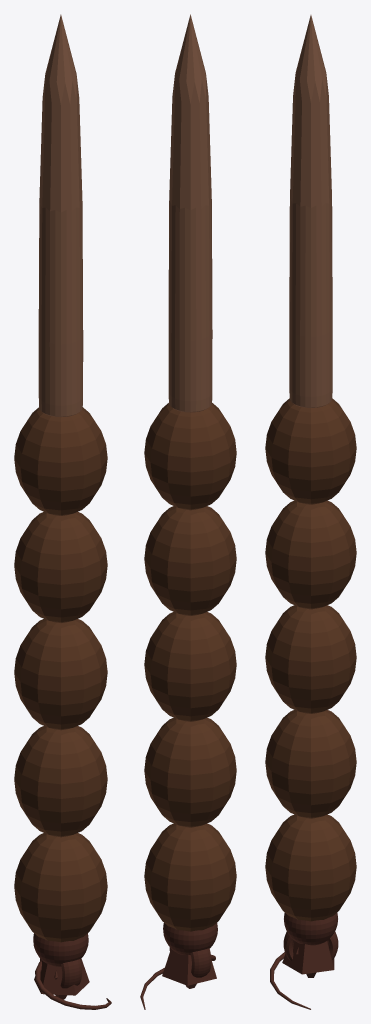
Rendered from Wand 207.glb.
3 renders of one model, left to right at view 1: azimuth 30°, elevation 25°; view 2: azimuth 210°, elevation 25°; view 3: azimuth 270°, elevation 25°, orthographic. The views are drawn at different scales.
Parts seen in each view (by area): view 1: GeneratedWand, Pommel_4, Pommel_9, Pommel_10, Pommel_2; view 2: GeneratedWand, Pommel_4, Pommel_9, Pommel_2; view 3: GeneratedWand, Pommel_9, Pommel_4, Pommel_2, Pommel_10.
Part boxes in pixels (box(x1,y1,x2,y2)): GeneratedWand: box(14, 14, 107, 942); Pommel_4: box(33, 933, 88, 966); Pommel_9: box(34, 958, 89, 995); Pommel_10: box(35, 960, 111, 1009); Pommel_2: box(40, 958, 81, 988); GeneratedWand: box(144, 14, 236, 931); Pommel_4: box(163, 923, 217, 955); Pommel_9: box(162, 949, 216, 985); Pommel_2: box(169, 947, 211, 977); GeneratedWand: box(265, 15, 356, 921); Pommel_9: box(282, 941, 334, 974); Pommel_4: box(284, 913, 337, 945); Pommel_2: box(283, 931, 338, 960); Pommel_10: box(270, 952, 310, 1009).
Bounding box in the file's own units: 0.0481 × 0.5279 × 0.0449.
